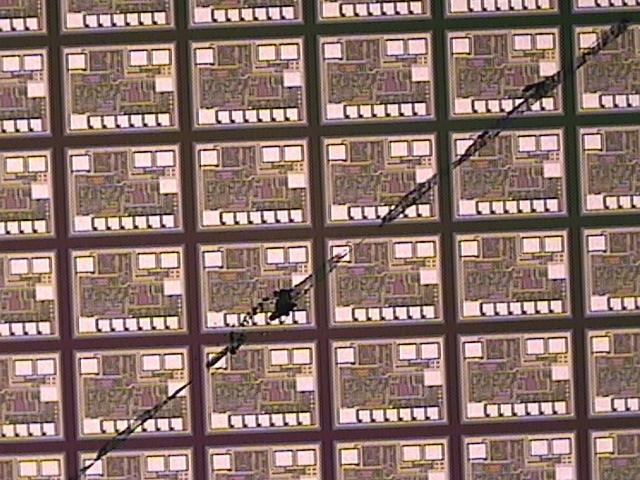SCRATCH: (65, 4, 640, 479)
